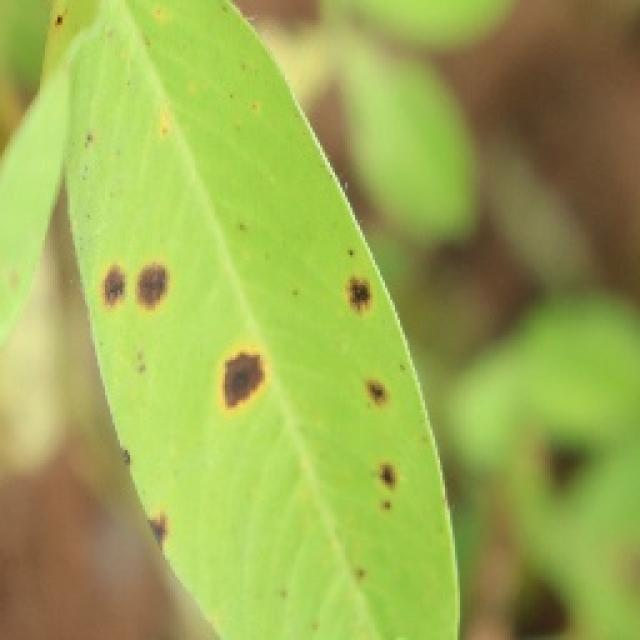Yellowish: (63, 145, 455, 605)
